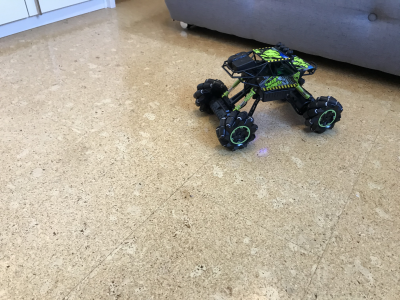remote control car: (189, 39, 344, 151)
